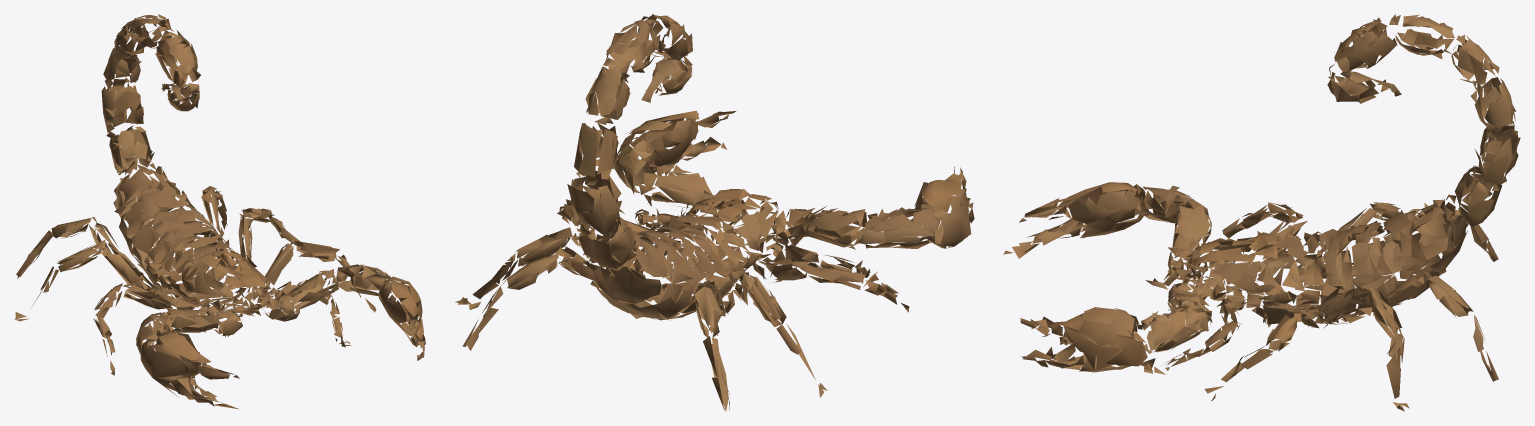
File: scorpion.glb
3 renders of one model, left to right at view 1: azimuth 30°, elevation 25°; view 2: azimuth 150°, elevation 25°; view 3: azimuth 270°, elevation 25°, orthographic. The views are drawn at different scales.
Visible parts, largest first — view 1: LO.001; view 2: LO.001; view 3: LO.001.
Part boxes in pixels (box(x1,y1,x2,y2)): LO.001: box(14, 14, 425, 409); LO.001: box(455, 14, 974, 411); LO.001: box(1003, 14, 1520, 411).
Size of the model in its own units: 1.47 by 1.29 by 1.89.
Materials: 1 (1 with a texture image).
